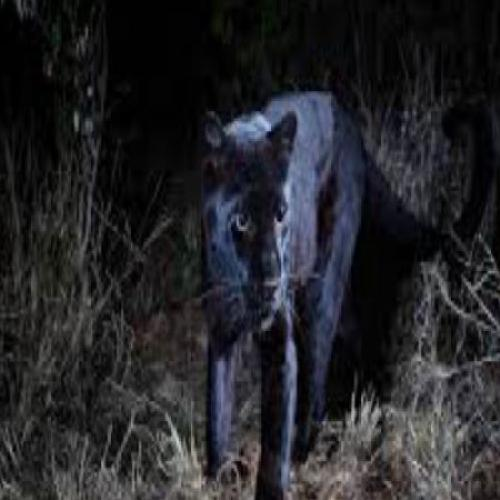panther-endangered: (194, 89, 370, 500)
